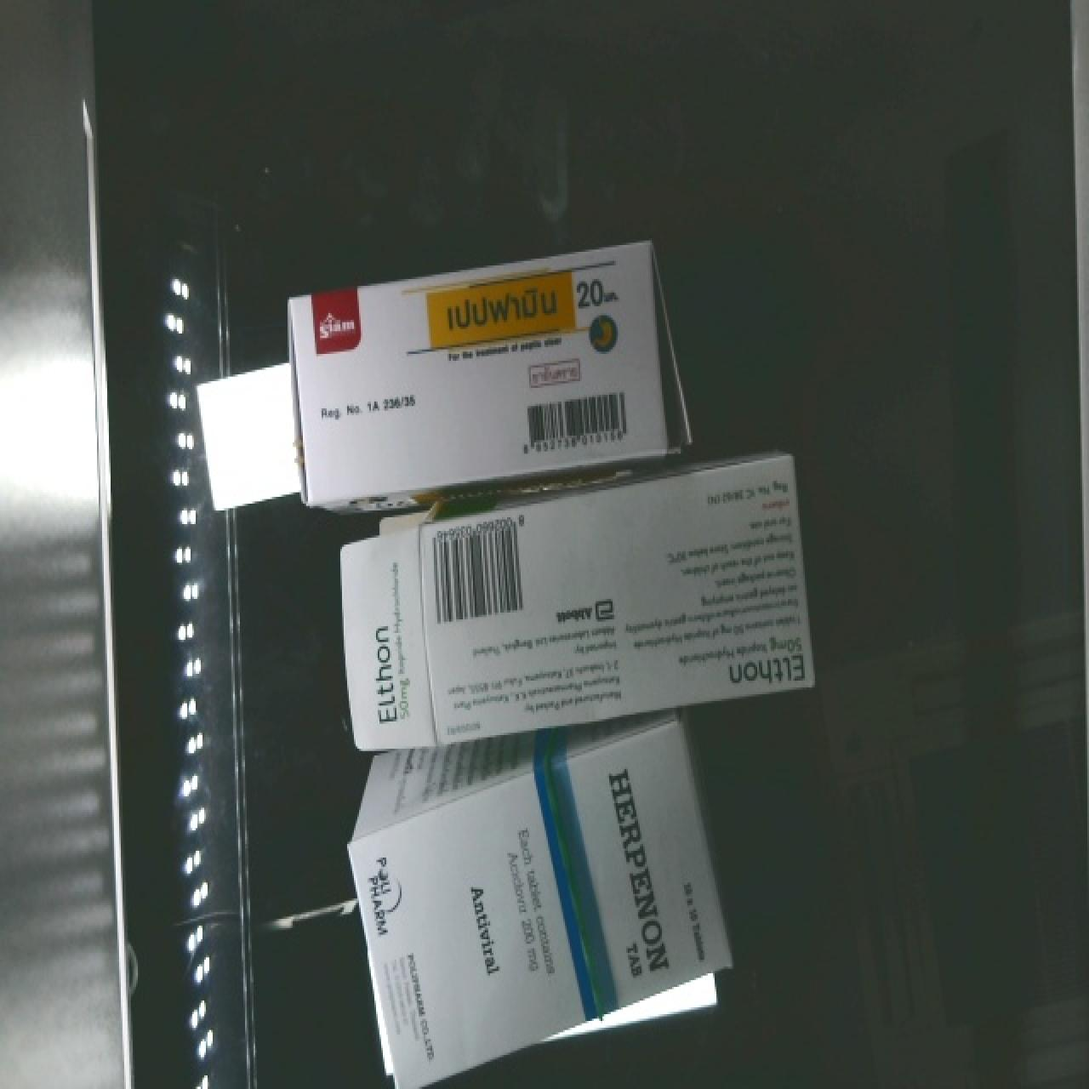medicine_label_obb: (575, 743, 694, 1001), (422, 256, 634, 348), (714, 639, 814, 701)
